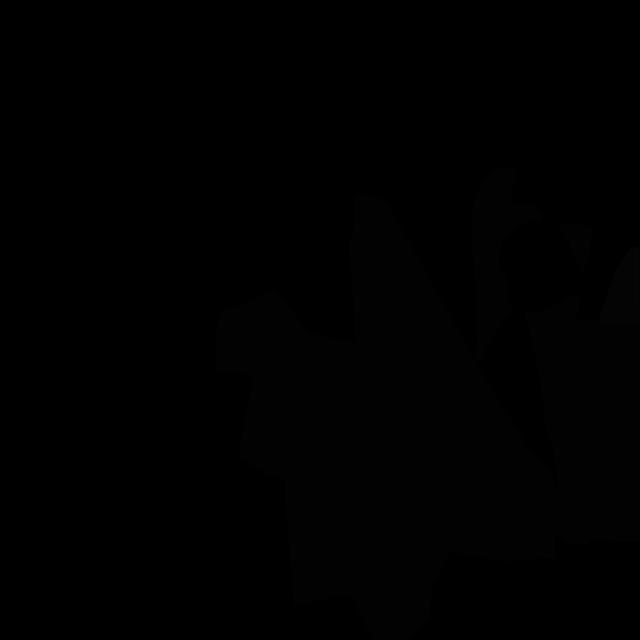cardboard: (216, 289, 449, 640), (349, 192, 556, 561), (542, 319, 640, 545), (472, 167, 544, 365), (524, 295, 581, 393), (556, 223, 593, 274)
soft_plastic: (598, 246, 640, 325)
